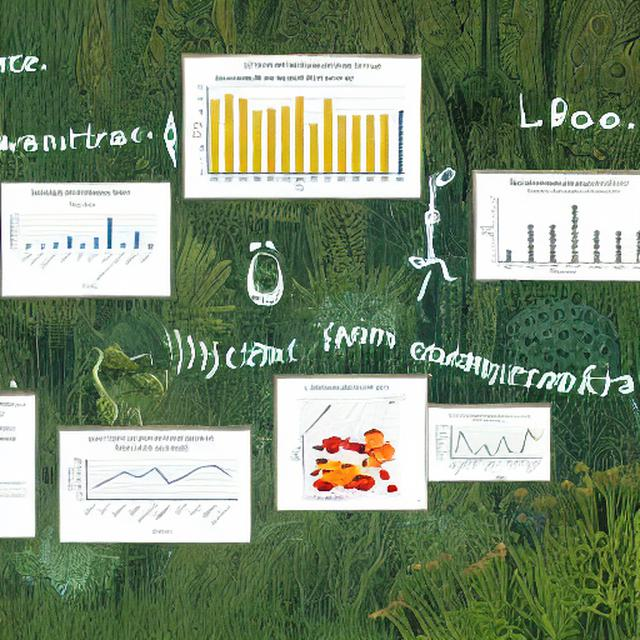Graph: (188, 72, 394, 194), (62, 432, 242, 540), (2, 199, 161, 293), (480, 188, 629, 276), (433, 413, 545, 479)
